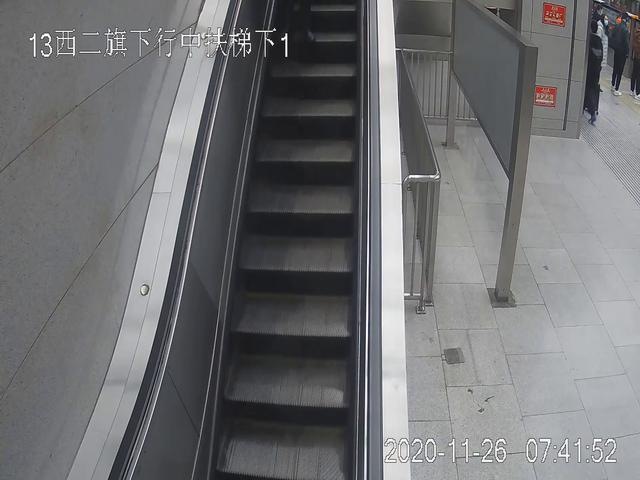person: (607, 12, 631, 97), (584, 21, 604, 123)
